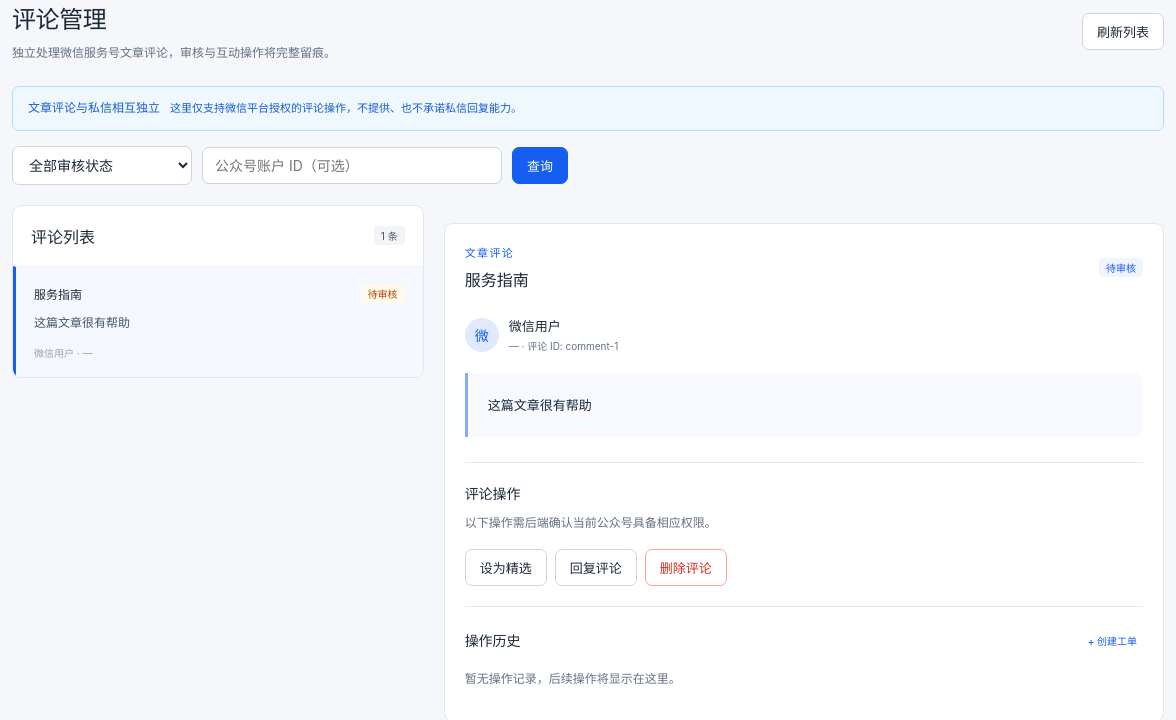
Test case: 评论管理 › 仅显示文章评论回复，不显示私信回复
This screenshot has width=1176, height=720.
Click the button "回复评论": (596, 567) [555, 549, 637, 586]
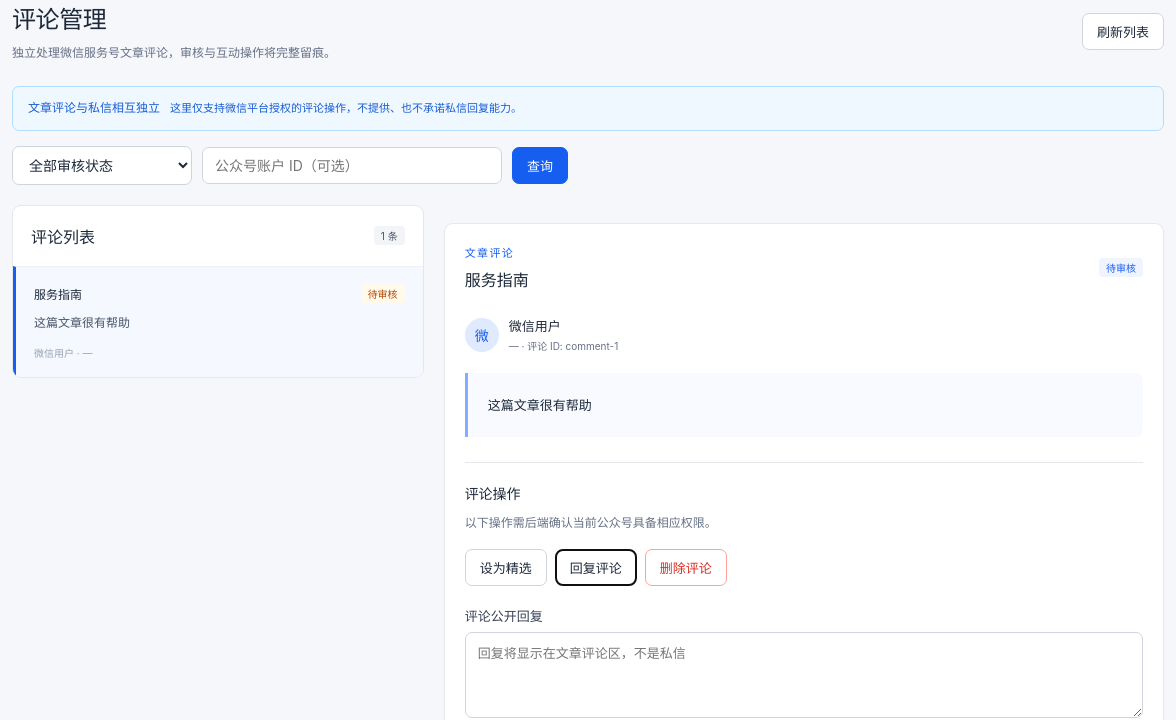
Expected: the text box with placeholder "回复将显示在文章评论区，不是私信" is shown, [465, 632, 1143, 718]
